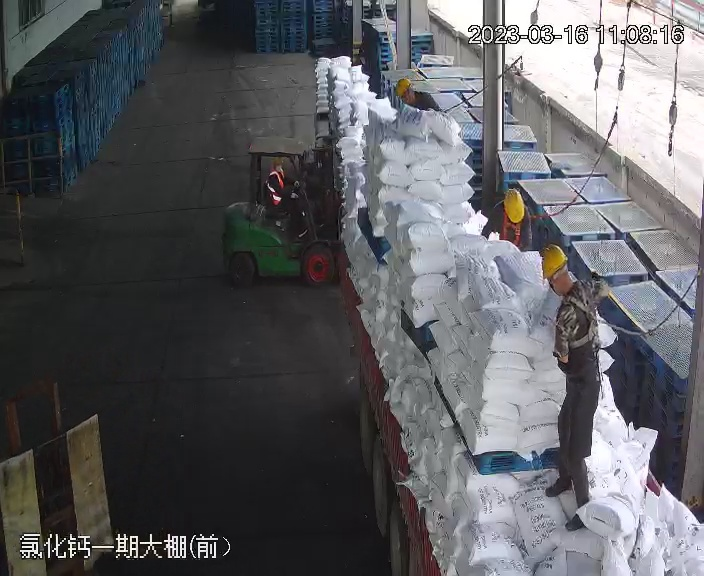belt: (558, 288, 606, 348), (501, 209, 527, 242), (406, 91, 421, 108)
head: (538, 243, 602, 323), (491, 187, 537, 230), (394, 77, 429, 105), (502, 187, 526, 223)
helmet: (539, 242, 568, 280), (502, 188, 525, 223), (394, 77, 411, 98)
people: (541, 244, 609, 526), (265, 155, 309, 233)
truck: (308, 69, 690, 576)
